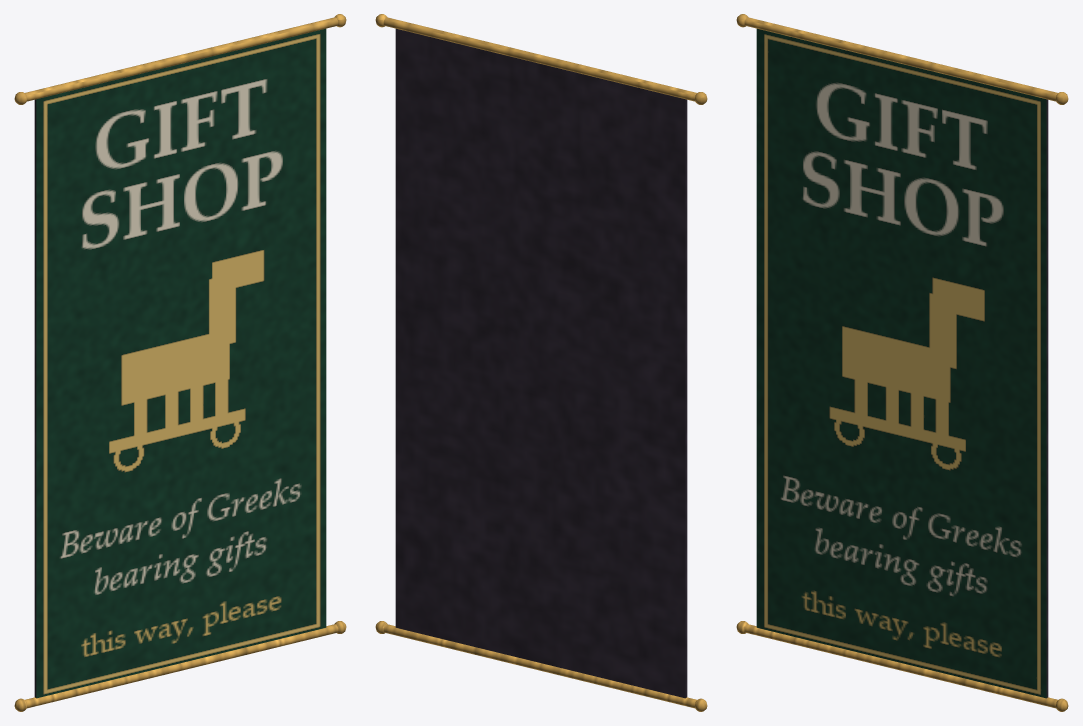
Rendered from banner_gift.gltf.
3 views of the same model, side by side, from view 1: azimuth 30°, elevation 25°; view 2: azimuth 150°, elevation 25°; view 3: azimuth 330°, elevation 25° (orthographic).
Parts seen in each view (by area): view 1: BannerGift; view 2: BannerGift; view 3: BannerGift.
Part boxes in pixels (bbox=[...]): BannerGift: bbox=[14, 14, 346, 711]; BannerGift: bbox=[375, 14, 707, 711]; BannerGift: bbox=[736, 14, 1068, 711].
Size of the model in its own units: 1.37 by 2.45 by 0.048.
2 materials, 2 textured.
